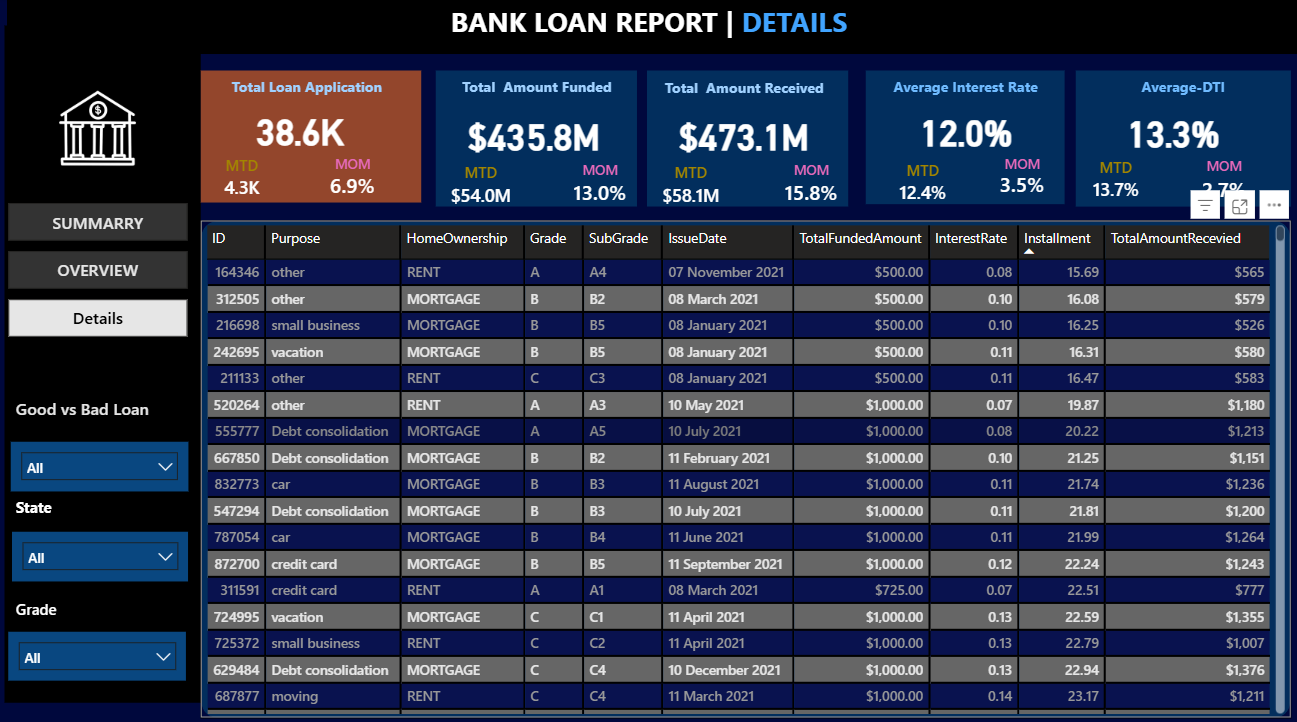

The page's visual inventory and layout, read from the dashboard file:
{"tool":"powerbi","page":{"name":"Details","canvas":[1280,720],"ordinal":2},"visuals":[{"type":"shape","box":[9.8,0,1269.9,55],"z":0},{"type":"shape","box":[431.1,70.7,197.5,133.5],"z":0,"group":"g6"},{"type":"shape","box":[638.3,70.7,197.5,133.5],"z":0,"group":"g2"},{"type":"shape","box":[200,71.2,216.4,129.8],"z":0,"group":"g4"},{"type":"shape","box":[853,71.2,195.2,131.2],"z":0,"group":"g5"},{"type":"shape","box":[1058.9,71.2,211.4,134],"z":0,"group":"g3"},{"type":"shape","box":[7.4,27,192.6,665],"z":1000},{"type":"textbox","box":[854.3,72.2,193.9,34.4],"z":1000,"group":"g5"},{"type":"card","title":"MTD","fields":{"Values":["date Table.MTD Loan Application"]},"box":[200,153.4,80.8,46.2],"z":1000,"group":"g4"},{"type":"card","title":"MTD","fields":{"Values":["date Table.MTD Average (DTI)"]},"box":[1058.9,156,78.9,47.6],"z":1000,"group":"g3"},{"type":"card","title":"MTD","fields":{"Values":["financialloan.MTD Funded Amount"]},"box":[436.7,160.7,76.5,46.2],"z":1000,"group":"g6"},{"type":"card","title":"MTD","fields":{"Values":["financialloan.MTD Amount Recived"]},"box":[643.9,160.7,76.5,46.2],"z":1000,"group":"g2"},{"type":"textbox","box":[440.5,0,444.2,46.6],"z":2000},{"type":"card","fields":{"Values":["financialloan.Total Loan Application"]},"box":[220.2,104.4,155.8,50.5],"z":2000,"group":"g4"},{"type":"card","fields":{"Values":["date Table.Average (DTI)"]},"box":[1078.6,105.4,152.2,52.1],"z":2000,"group":"g3"},{"type":"card","fields":{"Values":["financialloan.Total Funded Amount"]},"box":[452.6,108.5,148.6,50.5],"z":2000,"group":"g6"},{"type":"card","fields":{"Values":["financialloan.Total Amount Recevied"]},"box":[659.8,108.5,148.6,50.5],"z":2000,"group":"g2"},{"type":"card","title":"MTD","fields":{"Values":["financialloan.MTD Average interest rate"]},"box":[872.4,158.1,72.9,46.7],"z":2000,"group":"g5"},{"type":"group","id":"g1","title":"Group 1","box":[196.3,71.2,220.1,129.8],"z":3000},{"type":"textbox","box":[196.3,72.2,216,38],"z":3000,"group":"g4"},{"type":"textbox","box":[1059,72.2,211,39.3],"z":3000,"group":"g3"},{"type":"textbox","box":[434.6,72.3,191.4,30.7],"z":3000,"group":"g6"},{"type":"textbox","box":[634.9,73.5,198.8,35.6],"z":3000,"group":"g2"},{"type":"card","fields":{"Values":["financialloan.Average Interest Rate"]},"box":[881.3,104.7,140.6,51],"z":3000,"group":"g5"},{"type":"card","title":"MOM","fields":{"Values":["date Table.MOM loan Application"]},"box":[308.2,153.4,82.2,47.6],"z":4000,"group":"g4"},{"type":"card","title":"MOM","fields":{"Values":["date Table.MOM Average Interest rate"]},"box":[969.5,153.8,74.2,45.2],"z":4000,"group":"g5"},{"type":"card","title":"MOM","fields":{"Values":["date Table.MOM Average (DTI)"]},"box":[1164.6,156,80.3,49.1],"z":4000,"group":"g3"},{"type":"card","title":"MOM","fields":{"Values":["financialloan.MOM total Amount funded"]},"box":[555,159.3,75,47.6],"z":4000,"group":"g6"},{"type":"card","title":"MOM","fields":{"Values":["financialloan.MOM total Amount Recived"]},"box":[762.2,159.3,75,47.6],"z":4000,"group":"g2"},{"type":"shape","box":[200.5,217.9,1070.5,489.1],"z":4000},{"type":"group","id":"g2","title":"Group 2","box":[634.9,70.7,202.3,136.2],"z":5000},{"type":"group","id":"g3","title":"Group 2","box":[1058.9,71.2,211.4,134],"z":6000},{"type":"group","id":"g4","title":"Group 2","box":[196.3,71.2,220.1,129.8],"z":6003,"group":"g1"},{"type":"group","id":"g5","title":"Group 2","box":[853,71.2,195.2,133.5],"z":7000},{"type":"group","id":"g6","title":"Group 2","box":[431.1,70.7,198.9,136.2],"z":8000},{"type":"slicer","fields":{"Values":["financialloan.address_state"]},"box":[14.7,523.9,173,49.1],"z":9000},{"type":"textbox","box":[13,484.8,59.2,39],"z":10000},{"type":"slicer","fields":{"Values":["financialloan.grade"]},"box":[11.5,621.8,174.6,47.6],"z":11000},{"type":"textbox","box":[13,585.8,75,36.1],"z":12000},{"type":"slicer","fields":{"Values":["financialloan.GoodLoanvBadLoan"]},"box":[13.5,435.6,174.2,49.1],"z":13000},{"type":"textbox","box":[13,386.7,152.9,31.7],"z":14000},{"type":"tableEx","fields":{"Values":["financialloan.id","financialloan.purpose","financialloan.home_ownership","financialloan.grade","financialloan.sub_grade","financialloan.issue_date","financialloan.TotalFundedAmnt","financialloan.int_rate","financialloan.installment","financialloan.TotalAmntRecevied"]},"box":[200.5,217.9,1069.1,489.1],"z":15000},{"type":"pageNavigator","box":[11,201.2,176.7,133.7],"z":16000},{"type":"image","box":[9.8,55.2,177.9,144.8],"z":17000}]}

Visuals, with their boxes in screenshot pixels (x1, y1, x2, y2), scaled from the page's 1280x720 canvas onto the 1297x722 screenshot:
shape: (10,0,1296,55)
shape: (437,71,637,205)
shape: (647,71,847,205)
shape: (203,71,422,202)
shape: (864,71,1062,203)
shape: (1073,71,1287,206)
shape: (7,27,203,694)
textbox: (866,72,1062,107)
"MTD" card: (203,154,285,200)
"MTD" card: (1073,156,1153,204)
"MTD" card: (442,161,520,207)
"MTD" card: (652,161,730,207)
textbox: (446,0,896,47)
card - financialloan.Total Loan Application: (223,105,381,155)
card - date Table.Average (DTI): (1093,106,1247,158)
card - financialloan.Total Funded Amount: (459,109,609,159)
card - financialloan.Total Amount Recevied: (669,109,819,159)
"MTD" card: (884,159,958,205)
"Group 1" group: (199,71,422,202)
textbox: (199,72,418,111)
textbox: (1073,72,1287,112)
textbox: (440,73,634,103)
textbox: (643,74,845,109)
card - financialloan.Average Interest Rate: (893,105,1035,156)
"MOM" card: (312,154,396,202)
"MOM" card: (982,154,1058,200)
"MOM" card: (1180,156,1261,206)
"MOM" card: (562,160,638,207)
"MOM" card: (772,160,848,207)
shape: (203,219,1288,709)
"Group 2" group: (643,71,848,207)
"Group 2" group: (1073,71,1287,206)
"Group 2" group: (199,71,422,202)
"Group 2" group: (864,71,1062,205)
"Group 2" group: (437,71,638,207)
slicer - financialloan.address_state: (15,525,190,575)
textbox: (13,486,73,525)
slicer - financialloan.grade: (12,624,189,671)
textbox: (13,587,89,624)
slicer - financialloan.GoodLoanvBadLoan: (14,437,190,486)
textbox: (13,388,168,420)
tableEx - financialloan.id x financialloan.purpose: (203,219,1286,709)
pageNavigator: (11,202,190,336)
image: (10,55,190,201)
